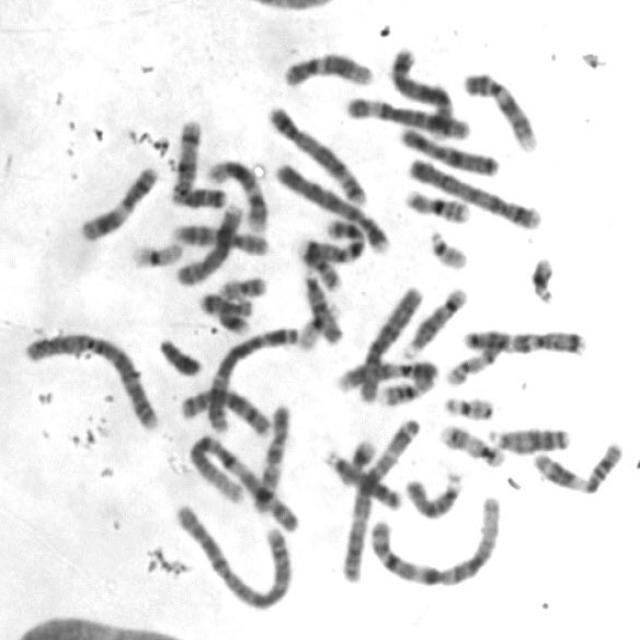A1: (364, 492, 503, 590), (185, 430, 300, 534)
A2: (20, 325, 162, 433), (172, 499, 295, 612)
A3: (338, 414, 423, 584), (203, 322, 301, 434)
B4: (272, 158, 393, 256), (404, 154, 542, 231)
B5: (263, 102, 368, 207), (388, 44, 461, 144)
C10: (250, 403, 294, 515), (171, 223, 271, 260)
C11: (76, 163, 160, 243), (527, 438, 625, 495)
C12: (204, 156, 268, 234), (280, 49, 374, 90)
C6: (357, 286, 423, 407), (342, 92, 471, 141)
C7: (460, 324, 588, 358), (296, 215, 366, 267)
C8: (173, 200, 244, 287), (175, 382, 273, 437)
C9: (462, 67, 540, 154), (331, 354, 439, 396)
D13: (319, 446, 402, 512), (485, 422, 571, 455)
D14: (399, 283, 469, 359), (166, 115, 202, 206)
D15: (299, 267, 344, 347), (401, 466, 464, 522)
E16: (400, 185, 471, 225), (381, 373, 435, 409)
E17: (443, 329, 505, 389), (436, 421, 506, 469)
E18: (168, 180, 228, 210), (195, 290, 254, 318)
F19: (295, 299, 343, 349), (127, 238, 184, 270)
F20: (298, 236, 344, 294), (215, 272, 268, 302)
G21: (524, 254, 558, 306), (207, 310, 253, 338), (346, 434, 377, 473)
G22: (424, 226, 470, 272), (440, 392, 496, 422)
X: (397, 124, 501, 177)
Y: (156, 334, 203, 378)
